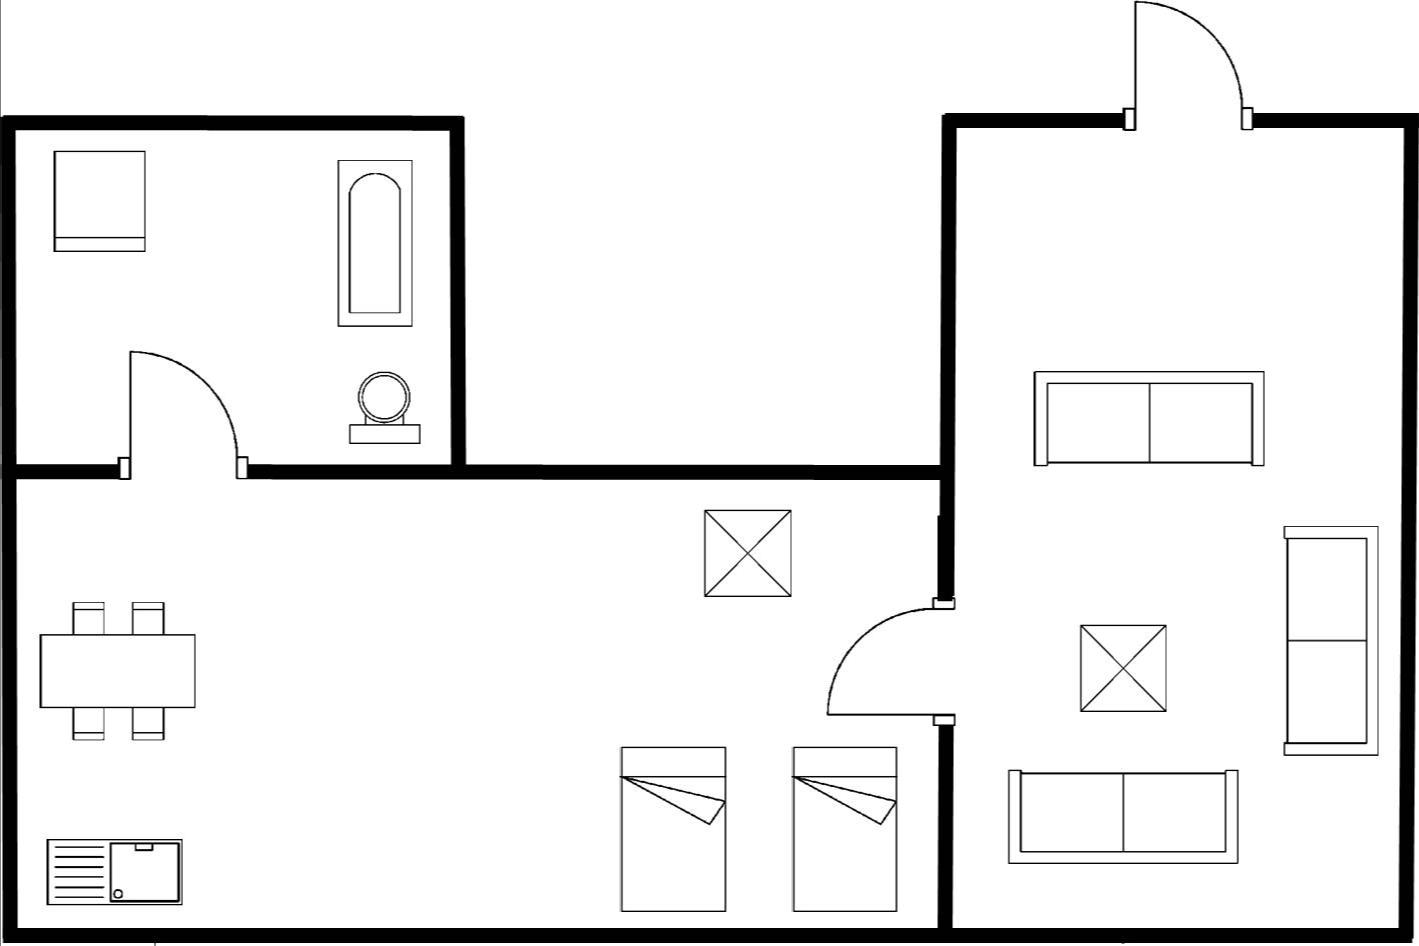bed: (612, 738, 730, 917), (786, 739, 901, 917)
dining_table: (32, 595, 208, 742)
sink: (37, 832, 187, 910)
sofa: (1001, 759, 1246, 870), (1024, 362, 1273, 469), (1276, 519, 1382, 762)
toilet: (340, 365, 423, 448)
tub: (328, 154, 415, 332)
